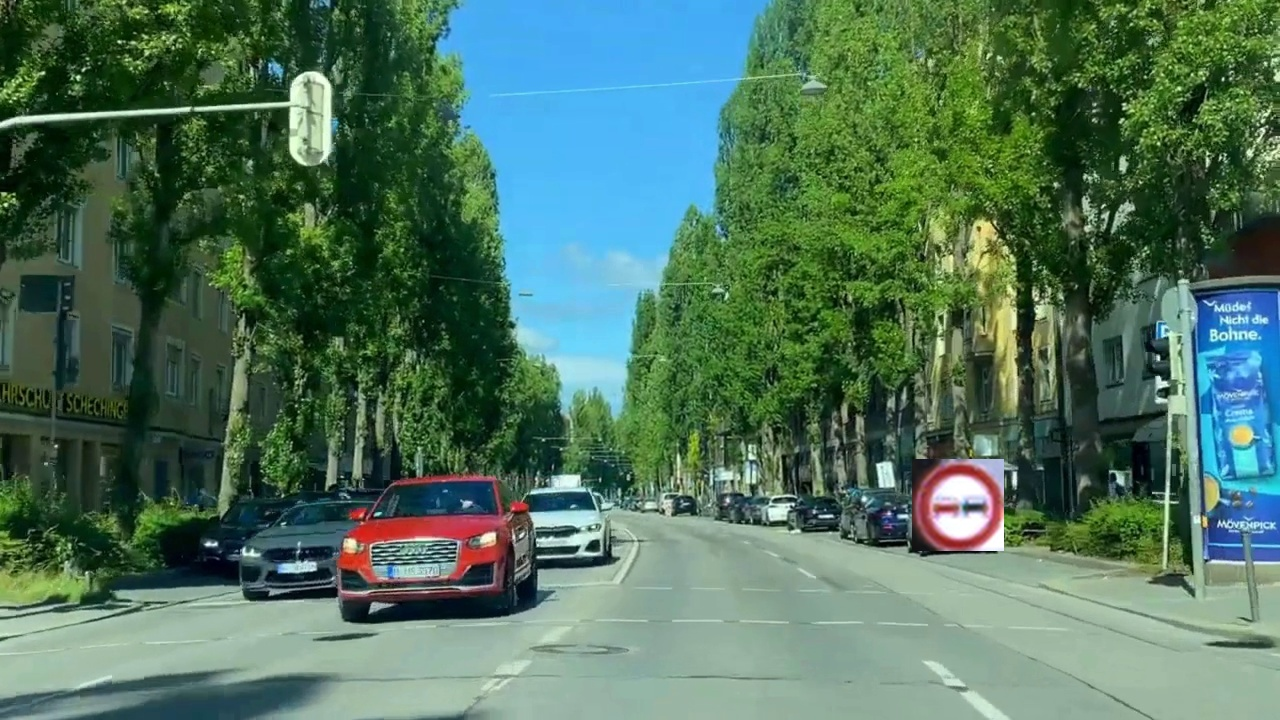No passing: (912, 459, 1004, 551)
